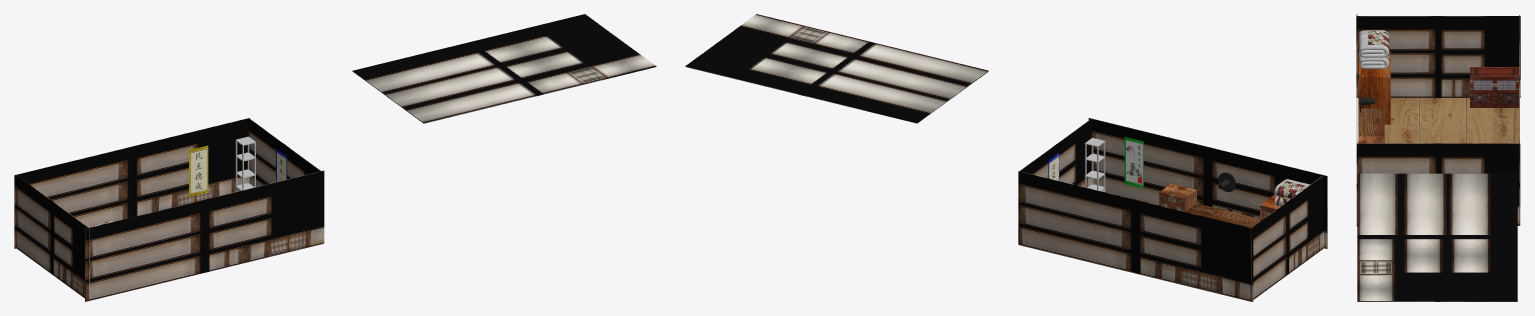
The model's file is house1.FBX.
The picture shows the model from 3 angles, left to right: view 1: azimuth 30°, elevation 25°; view 2: azimuth 150°, elevation 25°; view 3: azimuth 270°, elevation 25°; orthographic projection. The views are drawn at different scales.
Visible parts, largest first — view 1: Box005, Box010, Plane001, Box026; view 2: Box005, Box010, Plane005, Box011, Box012, Box017, Box002; view 3: Box005, Box010, Box025, Box013, Box002, Box012, Box001, Box011, Cone001.
Part boxes in pixels (x1,y1,x2,y2): Box005: (14, 118, 324, 301); Box010: (352, 14, 656, 123); Plane001: (189, 145, 208, 197); Box026: (235, 136, 255, 191); Box005: (1018, 118, 1327, 301); Box010: (685, 14, 988, 123); Plane005: (1124, 137, 1143, 188); Box011: (1159, 183, 1196, 211); Box012: (1185, 203, 1259, 227); Box017: (1084, 138, 1105, 191); Box002: (1274, 179, 1309, 199); Box005: (1356, 14, 1520, 226); Box010: (1357, 173, 1517, 301); Box025: (1470, 67, 1519, 107); Box013: (1358, 51, 1390, 124); Box002: (1359, 30, 1389, 57); Box012: (1359, 108, 1384, 136); Box001: (1359, 50, 1389, 68); Box011: (1358, 136, 1384, 143); Cone001: (1359, 90, 1374, 112).
Bounding box in the file's own units: 866 × 140 × 192.
